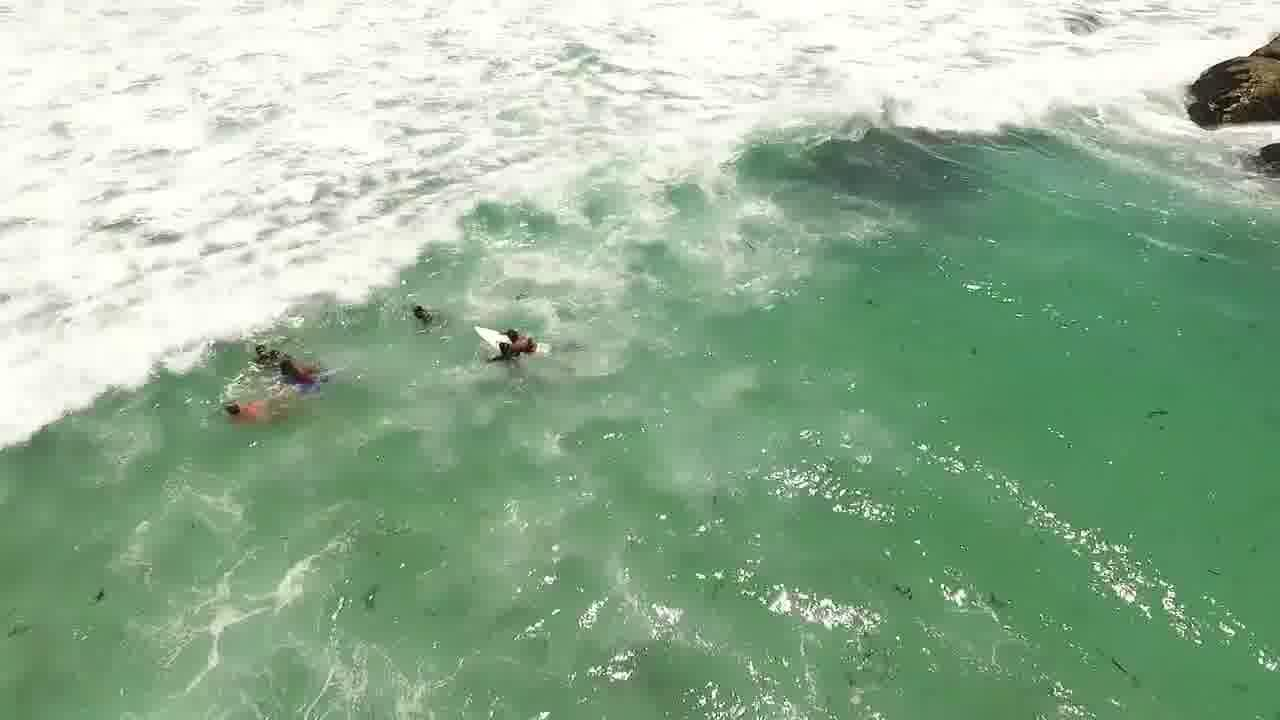swimmer: (497, 323, 534, 372), (206, 383, 244, 430), (277, 348, 317, 388), (403, 295, 441, 326), (243, 332, 266, 359)
